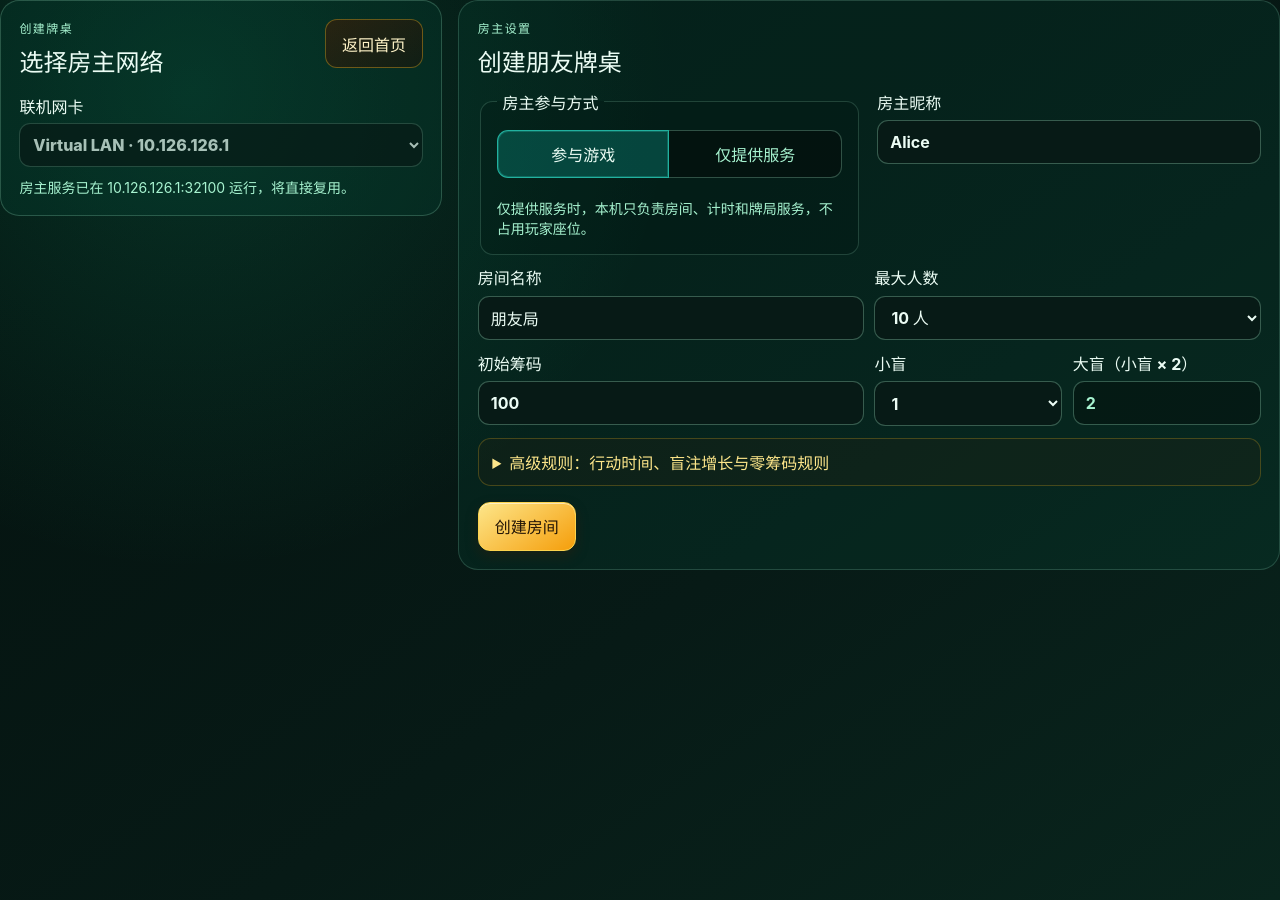
DesktopRoomSetup › uses the main-process service instead of a stale displayed network address
Expected: the text "房主服务已在 10.126.126.1:32100 运行，将直接复用。" is shown, [19,179,355,196]
Click the button "创建房间" at (527, 526), box [478,502,576,551]
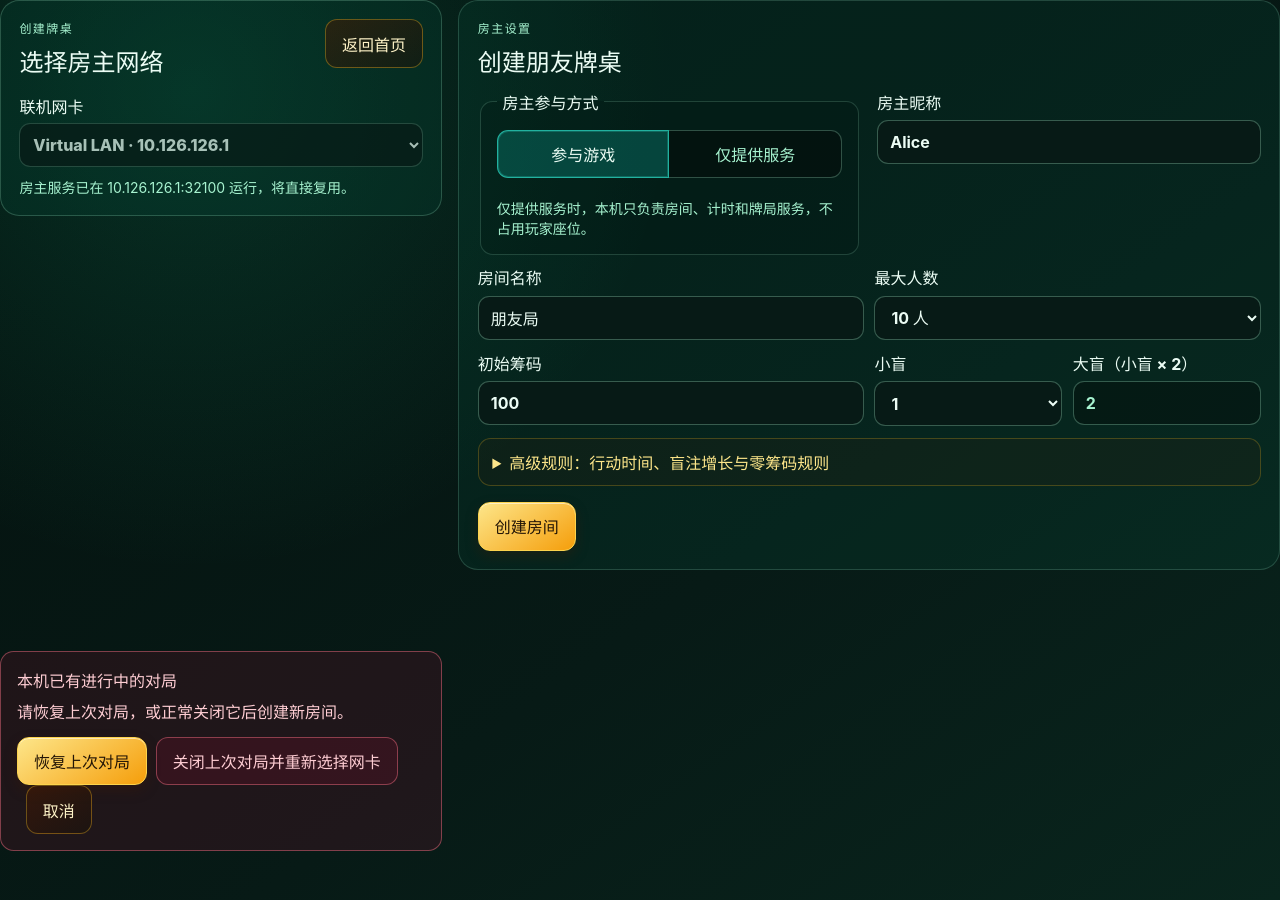
Now the dialog "本机已有进行中的对局" is shown, box [0,651,442,851]
